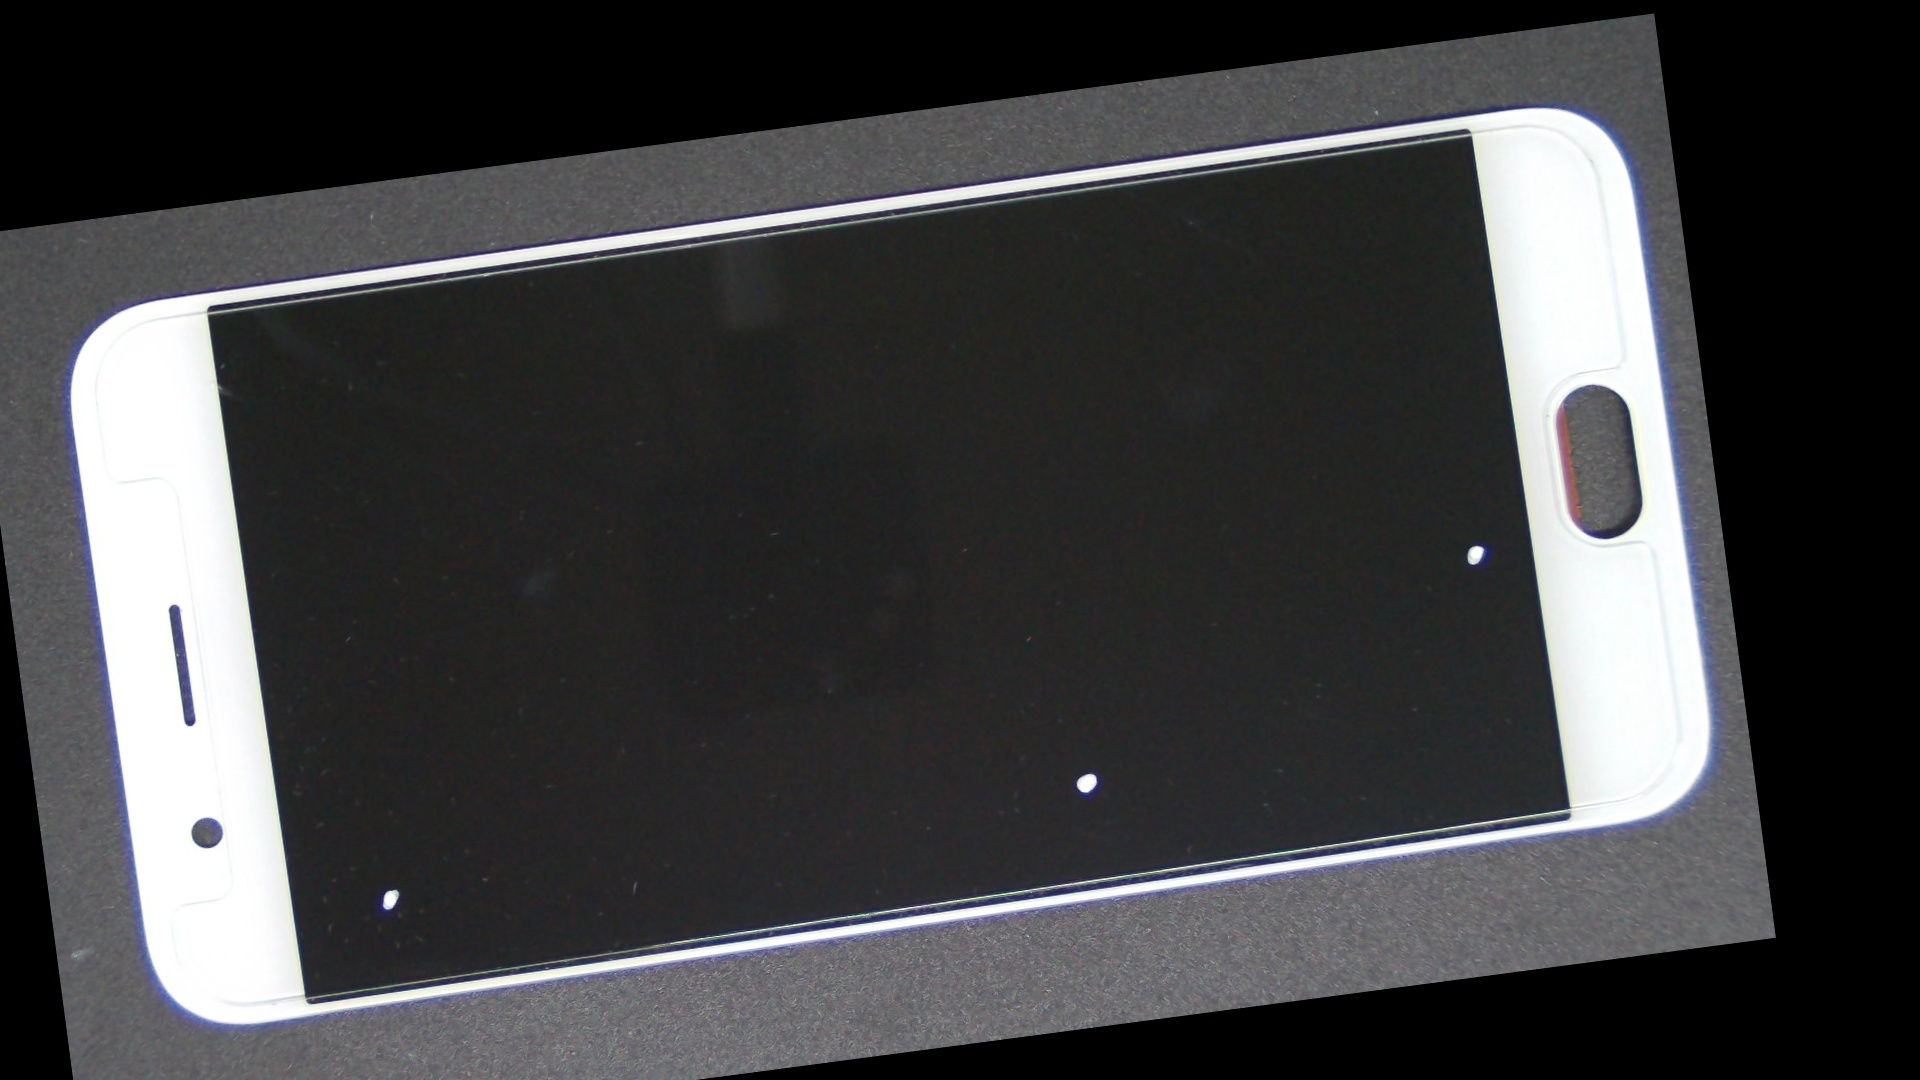oil: (525, 368, 1638, 1080), (719, 262, 1753, 890), (177, 518, 587, 1080)
